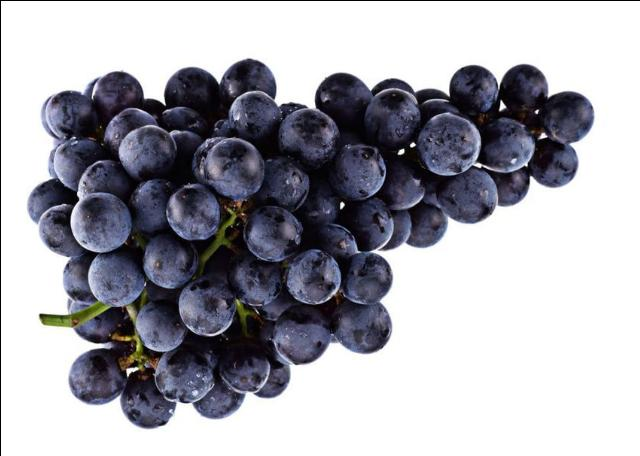Grapes: (31, 60, 594, 428)
